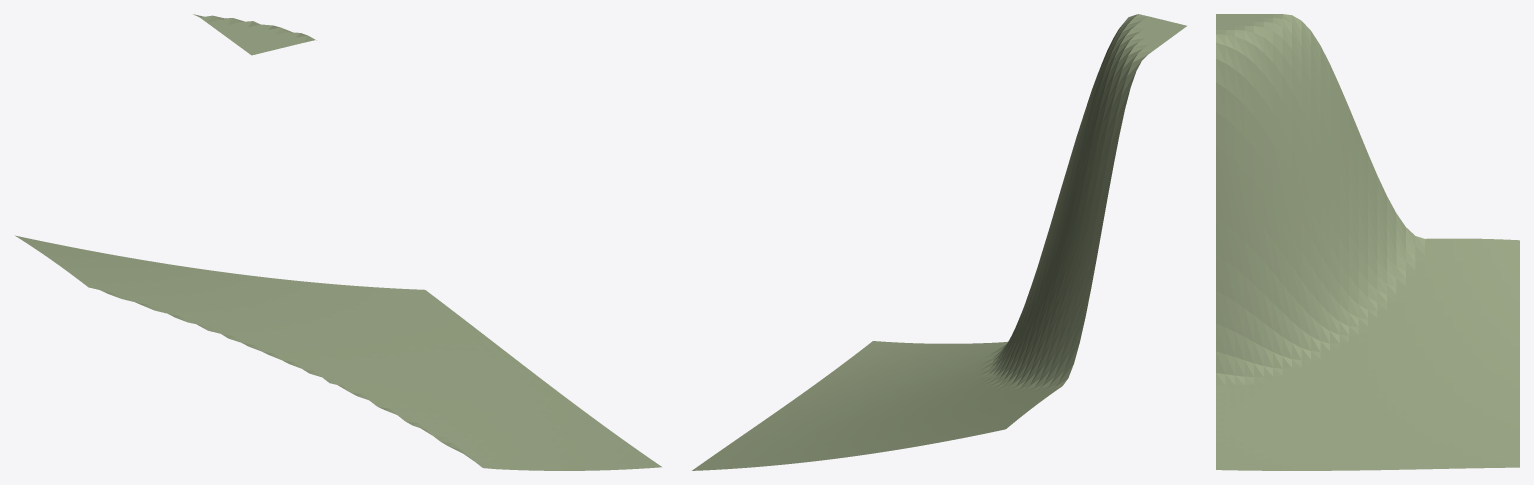
The model's file is alpine-12-2.glb.
The picture shows the model from 3 angles, left to right: view 1: azimuth 30°, elevation 25°; view 2: azimuth 150°, elevation 25°; view 3: azimuth 270°, elevation 25°; orthographic projection. The views are drawn at different scales.
Parts seen in each view (by area): view 1: alpine-12-2; view 2: alpine-12-2; view 3: alpine-12-2.
Part boxes in pixels (x1,y1,x2,y2): alpine-12-2: [15, 14, 661, 470]; alpine-12-2: [692, 14, 1186, 470]; alpine-12-2: [1216, 14, 1519, 470].
Size of the model in its own units: 256 by 306 by 256.
